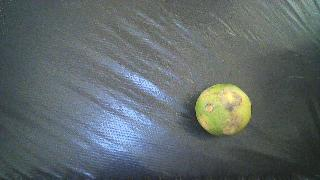DESECHO: (195, 84, 251, 136)
